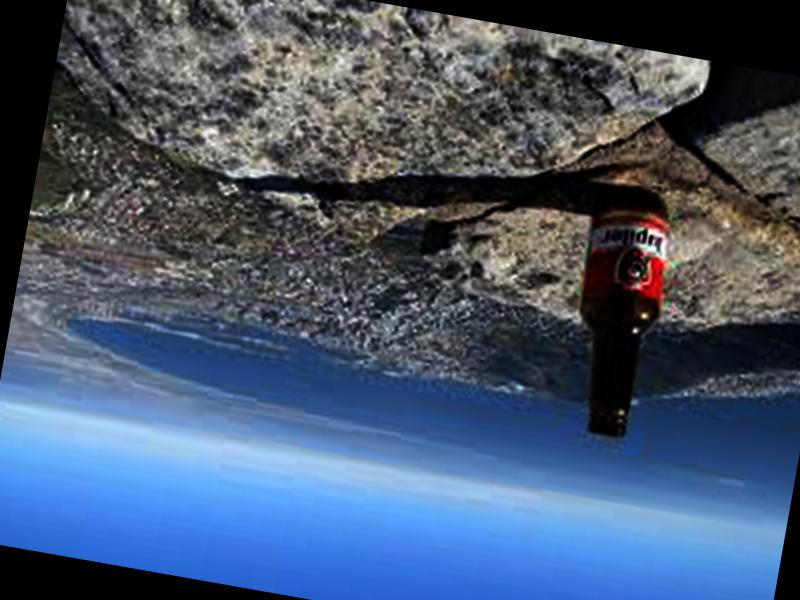Beer: (555, 191, 679, 443)
